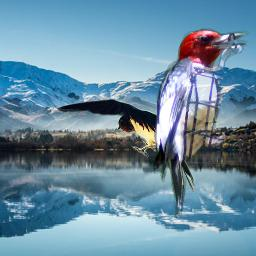Swallow: (53, 90, 248, 192)
Woodpecker: (153, 28, 251, 218)
